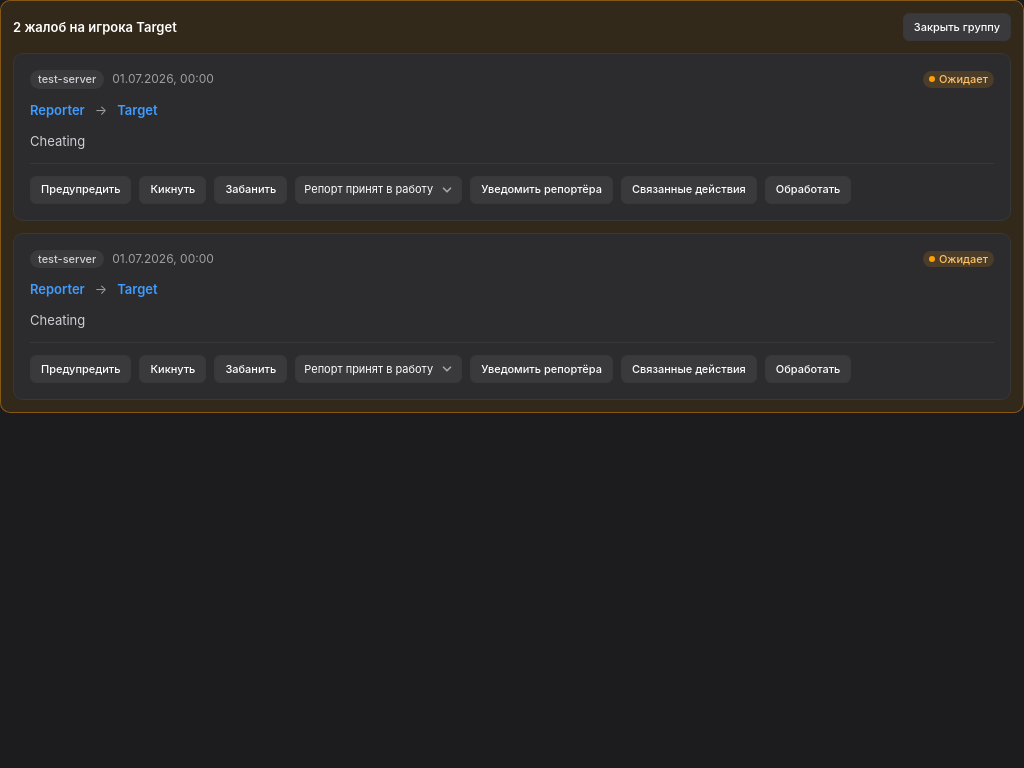
Test: ReportGroupBlock › asks for a note before resolving the whole group
What coordinates should you click on to do the following:
click the button "Закрыть группу"
I would click on:
 (957, 27)
Its box is [903,13,1011,41].
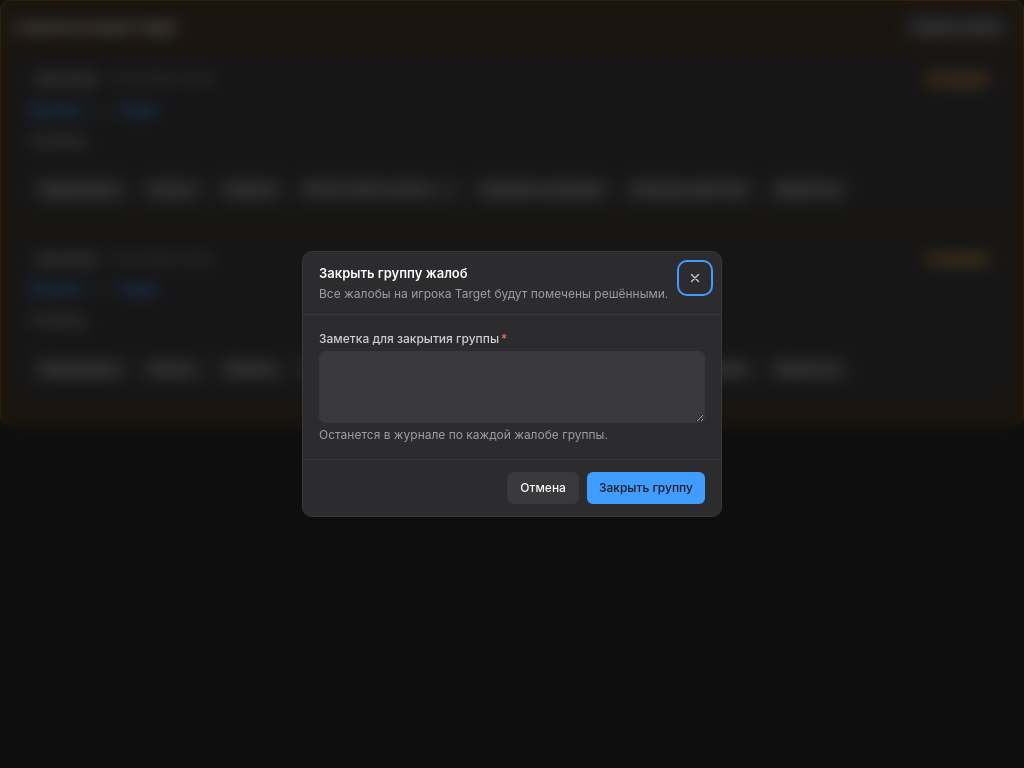
What coordinates should you click on to do the following:
click the button "Закрыть группу"
I would click on:
 (646, 488)
Its box is [587,472,705,504].
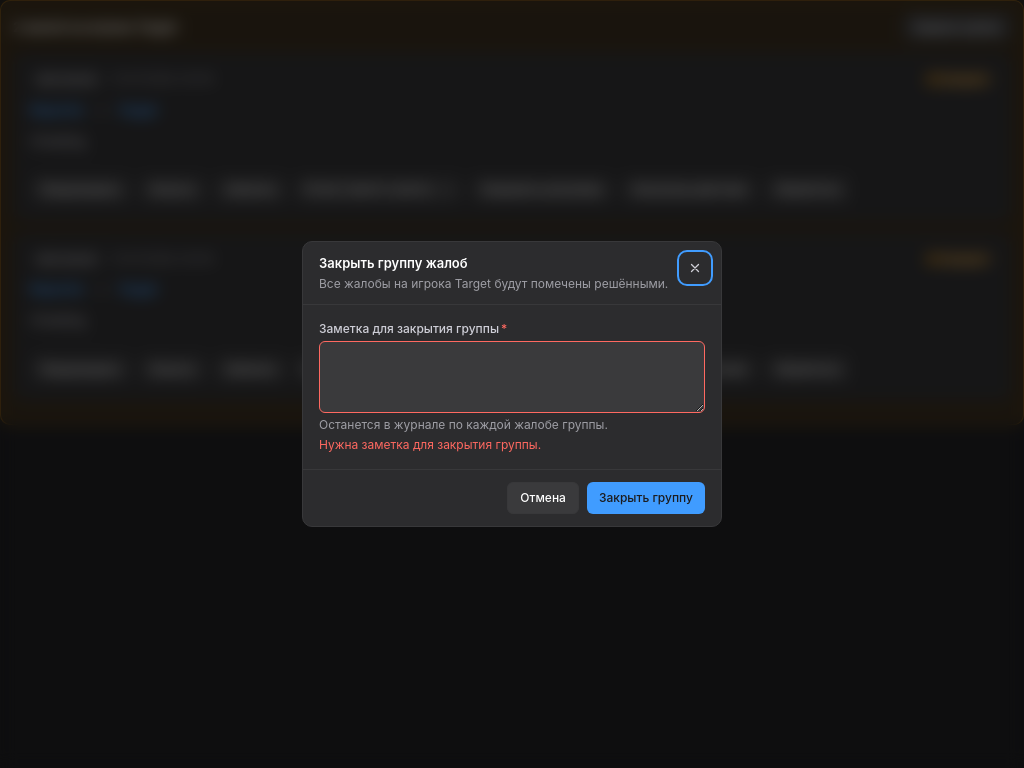
Now the text "Нужна заметка для закрытия группы." is shown, box [319,437,541,452]
